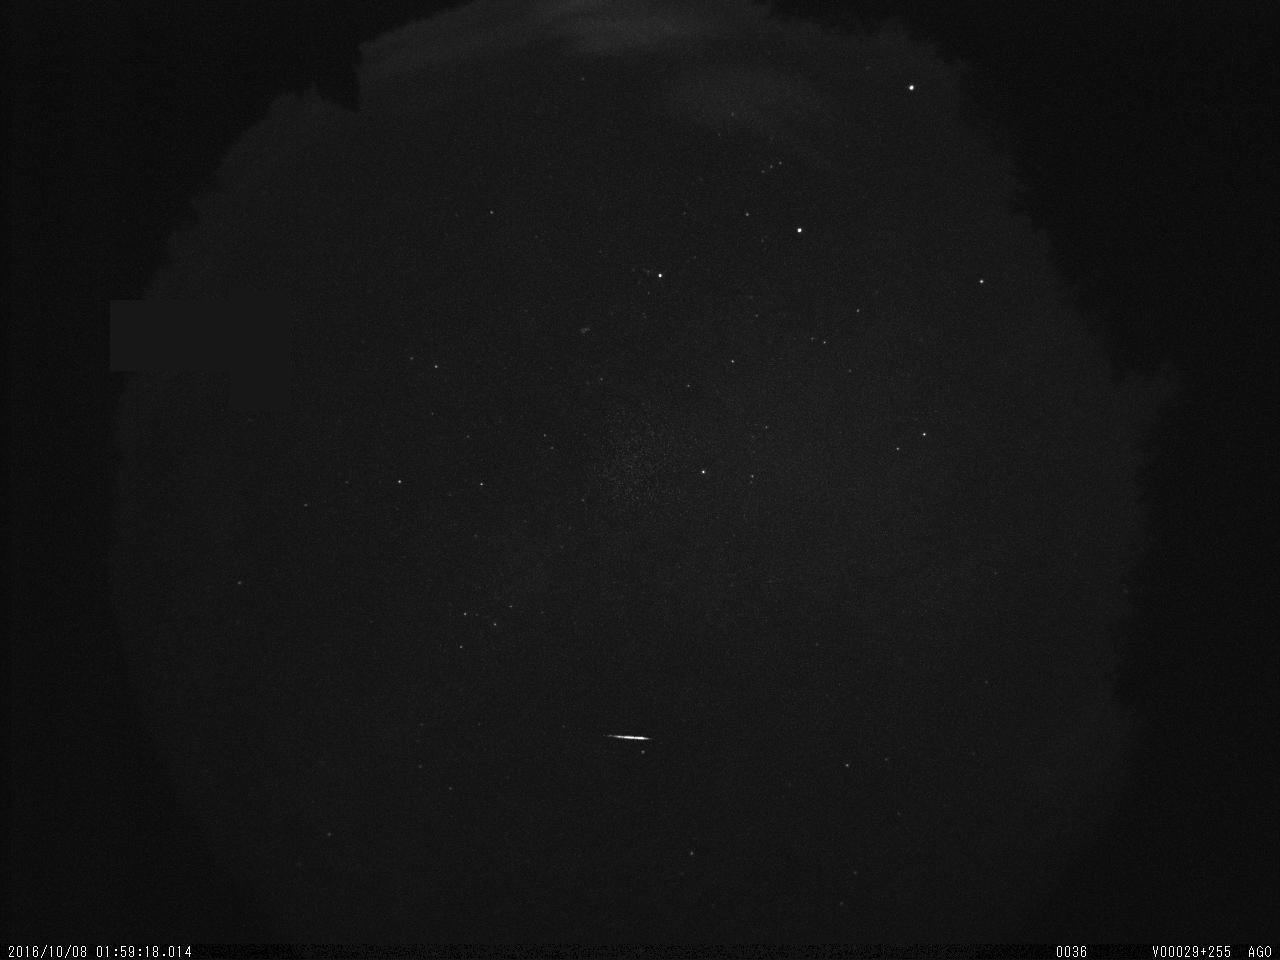meteor: (592, 716, 676, 755)
